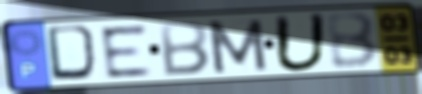B: (323, 10, 381, 70), (158, 20, 212, 78)
D: (44, 23, 104, 84)
E: (96, 22, 155, 80)
M: (204, 17, 271, 75)
U: (271, 12, 330, 74)
